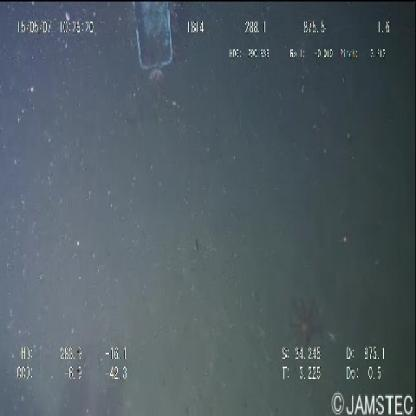Rác: (128, 2, 179, 80)
